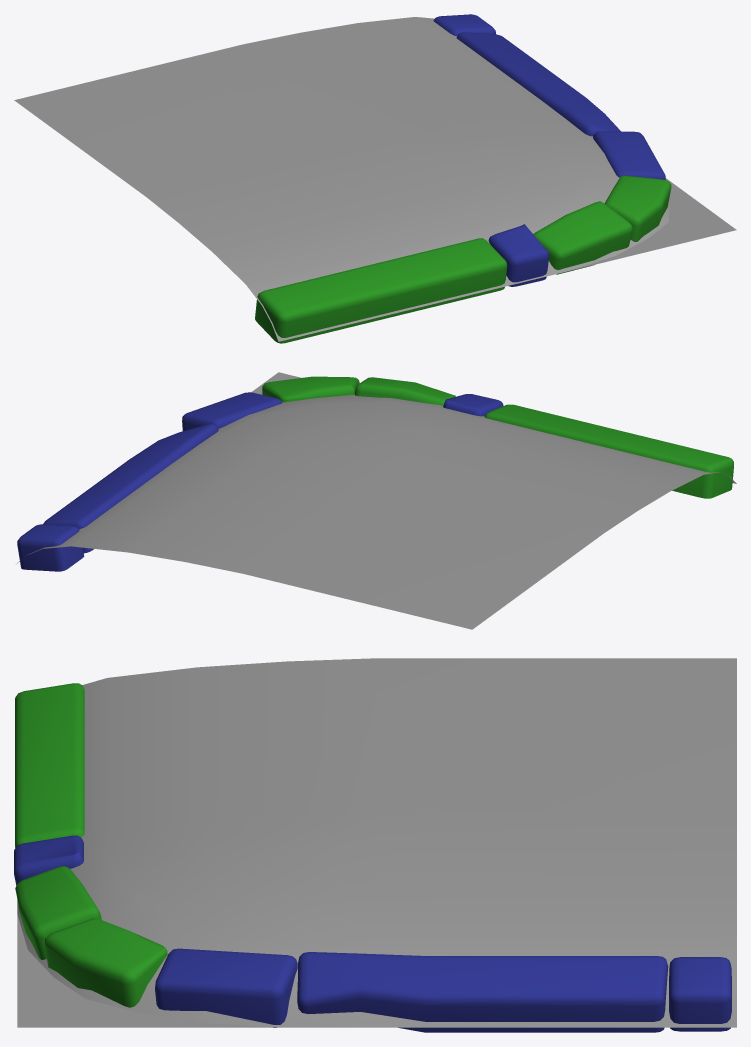
Rendered from bordur corn out.FBX.
3 views of the same model, one above another, from view 1: azimuth 30°, elevation 25°; view 2: azimuth 150°, elevation 25°; view 3: azimuth 270°, elevation 25° (orthographic). The views are drawn at different scales.
Visible parts, largest first — view 1: Plane210; view 2: Plane210; view 3: Plane210.
Boxes of the visible parts, x1=… form: Plane210: x1=14, y1=14, x2=736, y2=343; Plane210: x1=17, y1=372, x2=736, y2=629; Plane210: x1=14, y1=658, x2=736, y2=1032.
Size of the model in its own units: 4.01 by 0.4518 by 4.02.
